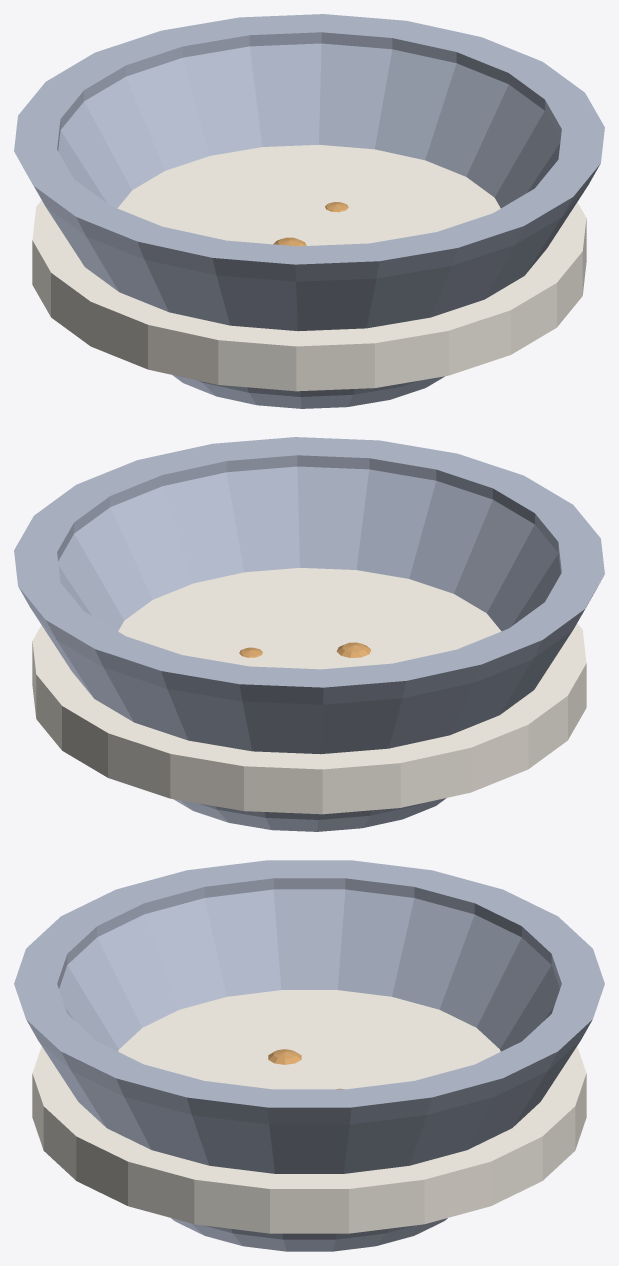
The model's file is bowl.glb.
3 views of the same model, one above another, from view 1: azimuth 30°, elevation 25°; view 2: azimuth 150°, elevation 25°; view 3: azimuth 270°, elevation 25° (orthographic).
Visible parts, largest first — view 1: bowl; view 2: bowl; view 3: bowl.
Part boxes in pixels (box(x1,y1,x2,y2)): bowl: box(14, 14, 604, 408); bowl: box(14, 437, 604, 831); bowl: box(14, 860, 604, 1251).
Bounding box in the file's own units: 0.9502 × 0.36 × 0.96.
